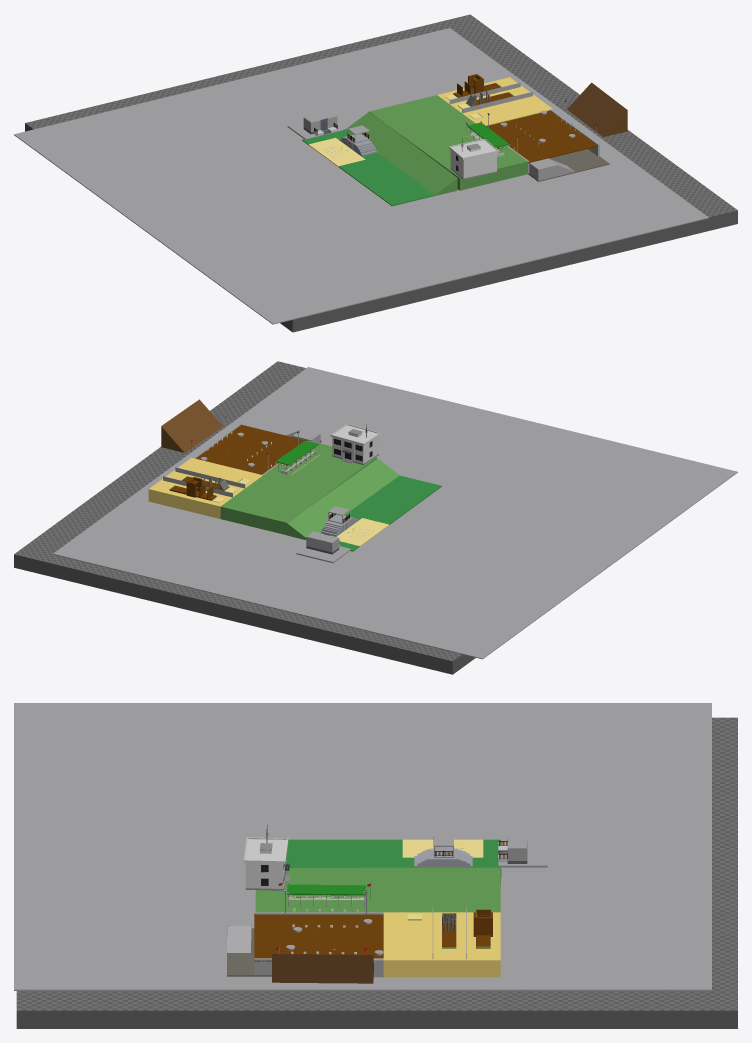
3 views of the same model, one above another, from view 1: azimuth 30°, elevation 25°; view 2: azimuth 150°, elevation 25°; view 3: azimuth 270°, elevation 25° (orthographic). The views are drawn at different scales.
Parts seen in each view (by area): view 1: Part (×9), Baseplate, BermPrism, BackWallBase; view 2: Part (×7), Baseplate, BermPrism; view 3: Part (×9), Baseplate, BermPrism, MainRoofSlab, CanopyRoof, LeftWall.
Part boxes in pixels (box(x1,y1,x2,y2)): Part (×9): box(14, 28, 708, 324); Baseplate: box(25, 14, 737, 332); BermPrism: box(567, 82, 627, 136); BackWallBase: box(463, 153, 496, 178); Part (×7): box(53, 367, 737, 659); Baseplate: box(14, 361, 475, 674); BermPrism: box(161, 399, 222, 452); Part (×9): box(14, 703, 711, 990); Baseplate: box(16, 717, 737, 1028); BermPrism: box(272, 954, 373, 983); MainRoofSlab: box(243, 839, 288, 863); CanopyRoof: box(287, 884, 365, 895); LeftWall: box(247, 863, 282, 888).
Size of the model in its own units: 573 by 73.24 by 572.
